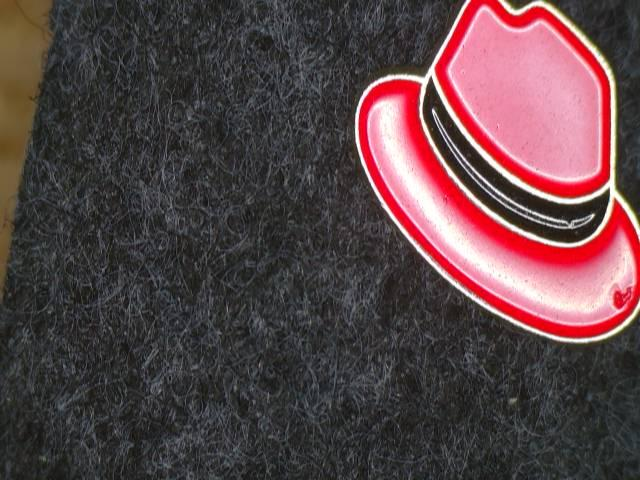Red-Hat: (345, 0, 640, 366)
